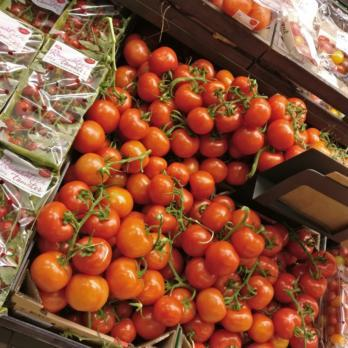Tomato: (110, 66, 213, 240), (197, 230, 332, 340), (45, 195, 166, 303)
